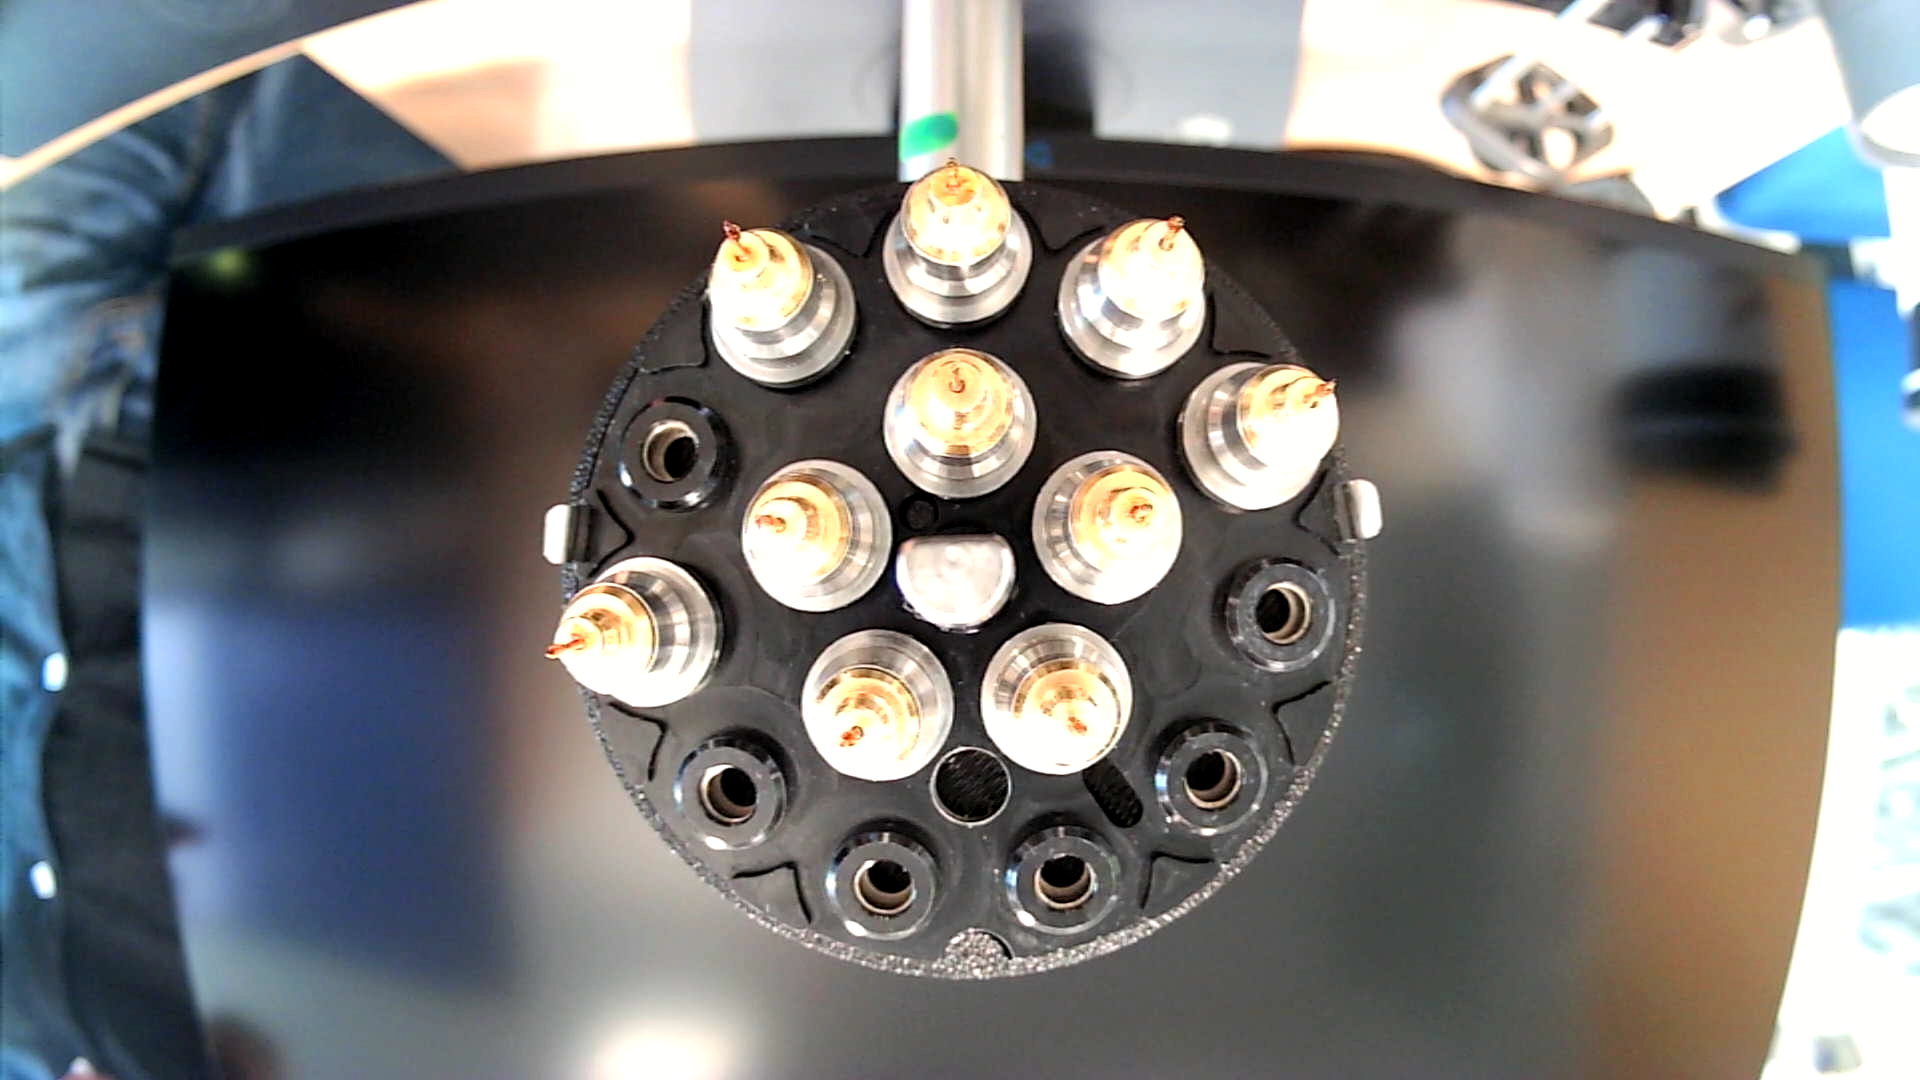empty: (1145, 712, 1276, 844), (822, 815, 951, 948), (1004, 811, 1130, 947), (1215, 550, 1344, 680), (611, 396, 745, 520), (670, 724, 799, 852)
hole: (928, 744, 1015, 829)
pin: (543, 555, 725, 715), (700, 218, 857, 396), (878, 158, 1031, 334), (1054, 212, 1205, 384), (800, 626, 959, 785), (1179, 359, 1342, 512), (738, 458, 894, 617), (880, 347, 1038, 501), (1030, 448, 1184, 607), (980, 618, 1135, 774)
rod: (889, 531, 1021, 638)
